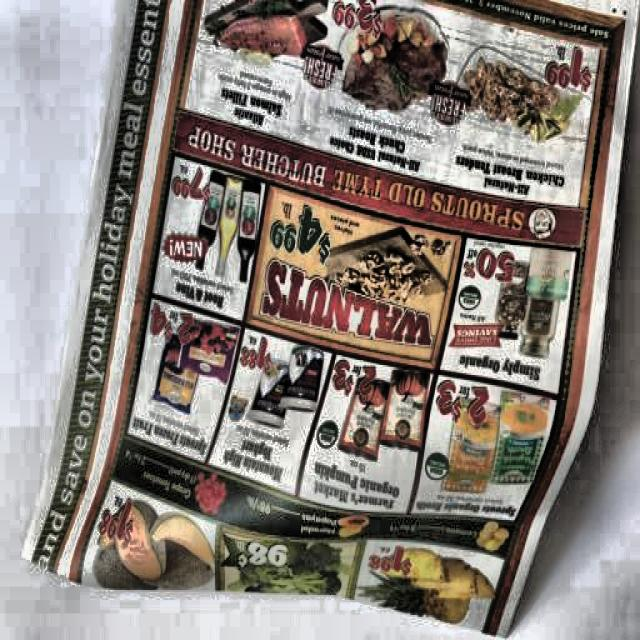paper: (46, 3, 622, 634)
